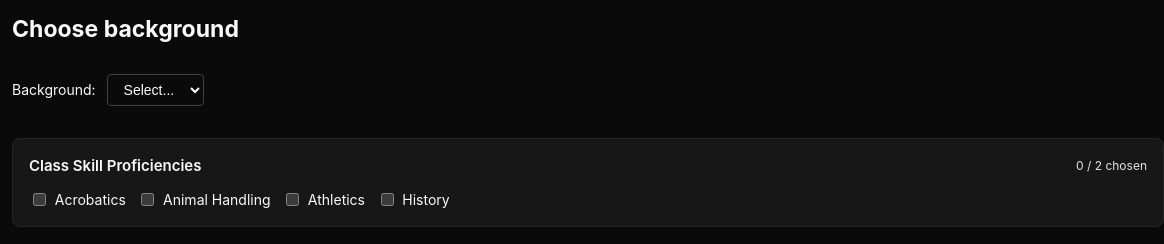
Test: BackgroundStep › allows selecting a class skill checkbox
Click the checkbox labelled "Acrobatics". click: (40,199)
box: [33,193,46,206]
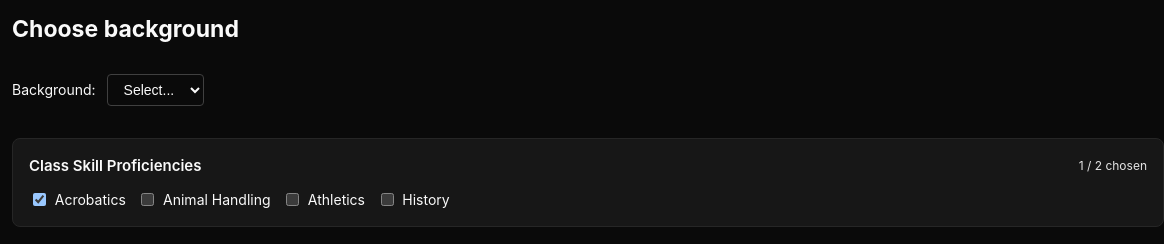
Check: the text "1 / 2 chosen" is shown, box [1079,157,1147,175]
